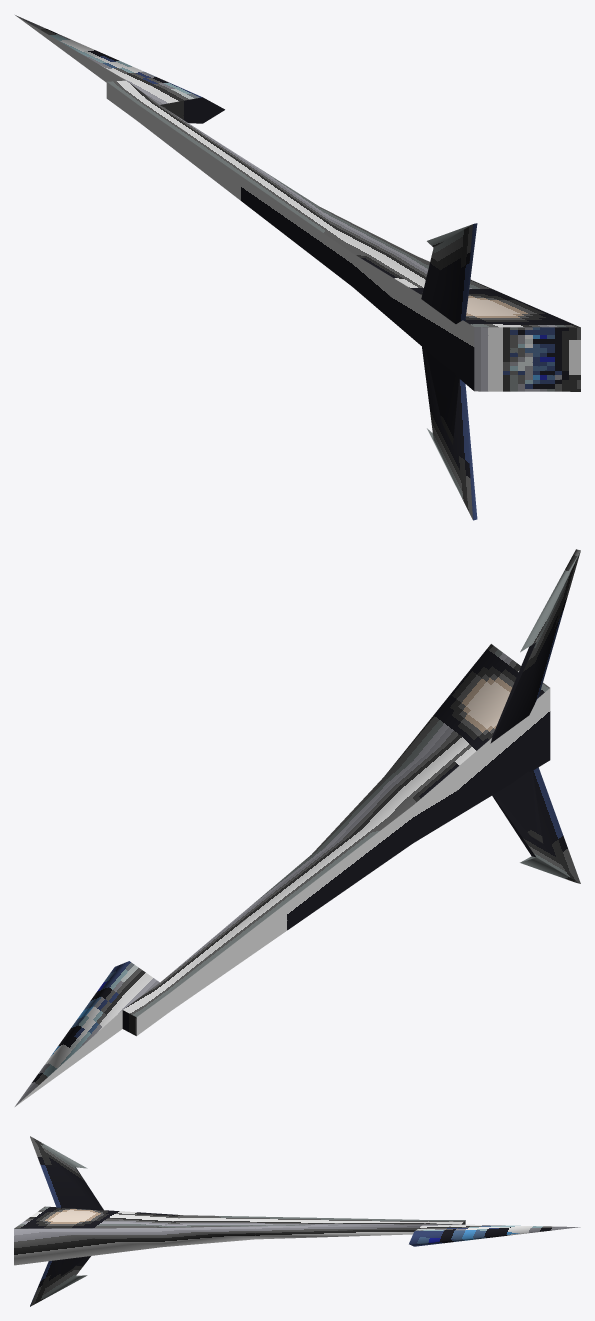
The picture shows the model from 3 angles, top to bottom: view 1: azimuth 30°, elevation 25°; view 2: azimuth 150°, elevation 25°; view 3: azimuth 270°, elevation 25°; orthographic projection. The views are drawn at different scales.
Parts seen in each view (by area): view 1: 2716sbim03_09; view 2: 2716sbim03_09; view 3: 2716sbim03_09.
Boxes of the visible parts, x1,y1,x2,y2 form: 2716sbim03_09: [15, 15, 580, 520]; 2716sbim03_09: [15, 549, 580, 1106]; 2716sbim03_09: [14, 1136, 580, 1306].
Size of the model in its own units: 0.2788 by 0.8413 by 2.55.
1 material, 1 textured.
